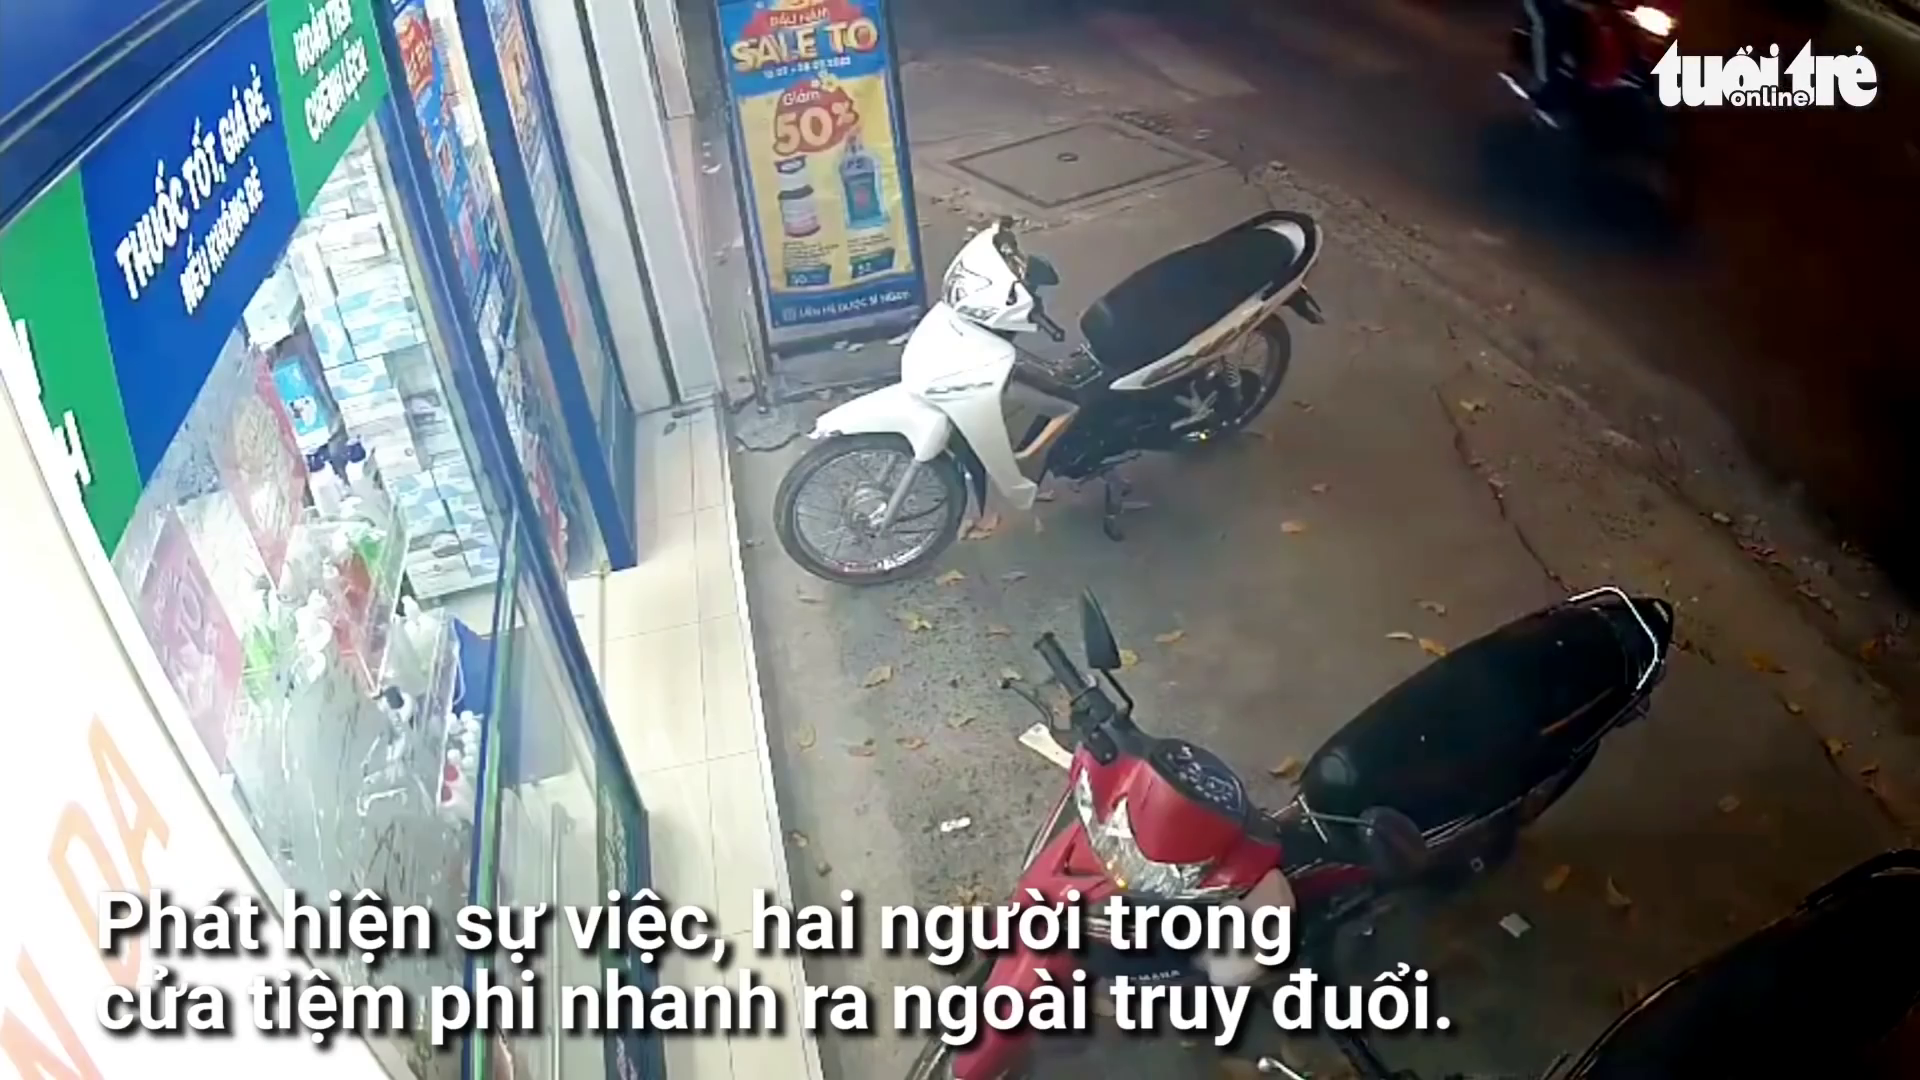Motorcycle: (938, 583, 1679, 1062), (773, 207, 1327, 587), (1499, 1, 1689, 224)
